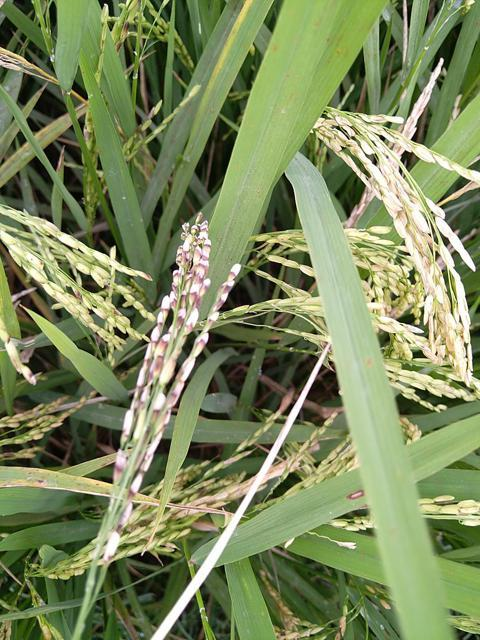Panicle Blight: (103, 264, 241, 562), (112, 296, 171, 485), (160, 213, 211, 385), (142, 387, 166, 455)
